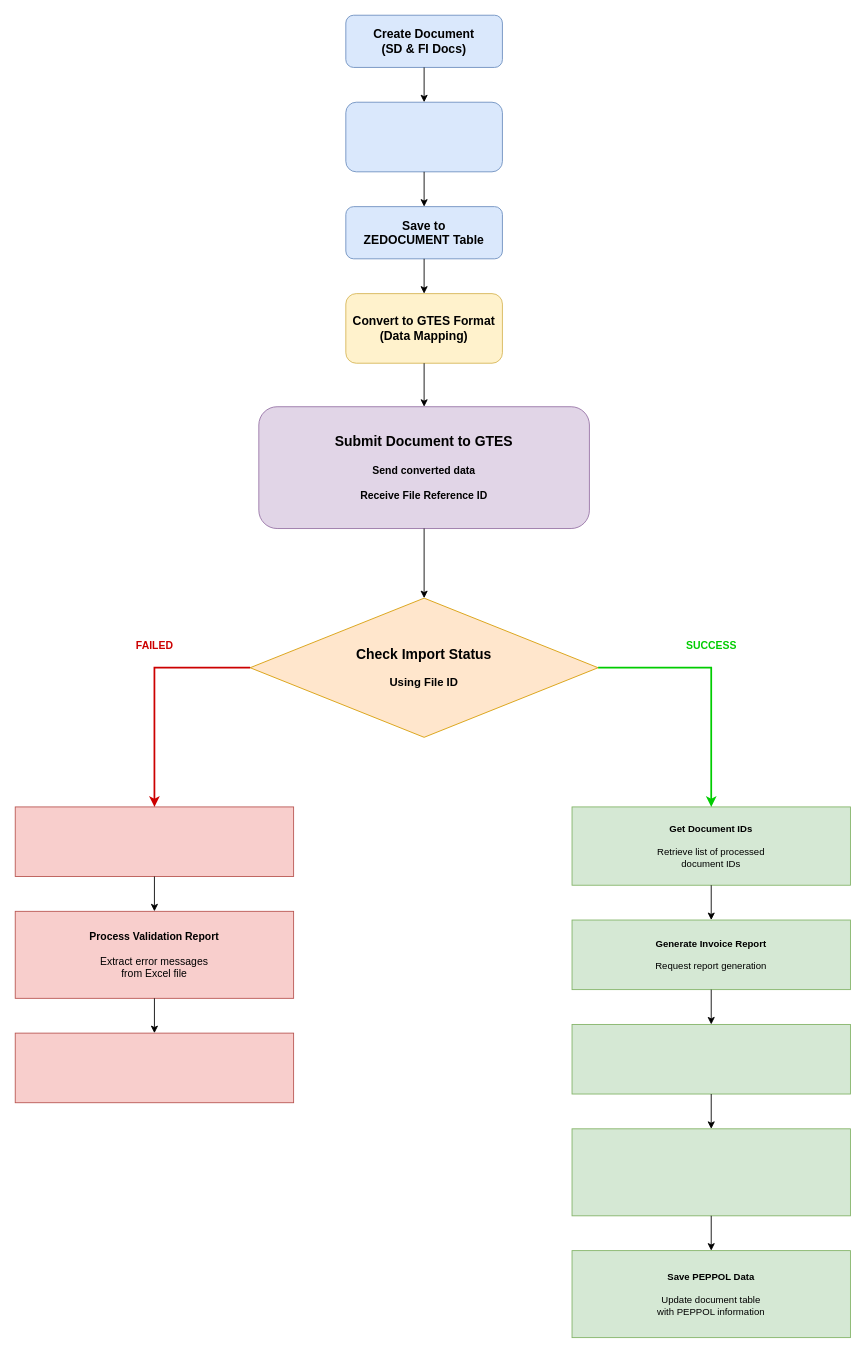
Some shapes in this 866 by 1353 pixel diagram are drawn without their labels. The shapes that lost their labels are listed below. From the top down, each one's centre as x and y in pixels, then its label:
[423,136]: Apply Document Filters
[154,841]: Get Validation Report Download error report
[154,1067]: Save Error Messages Log to database
[710,1059]: Download Report Download CSV report file
[710,1172]: Process CSV Report Extract PEPPOL data: ID, Date, Time
